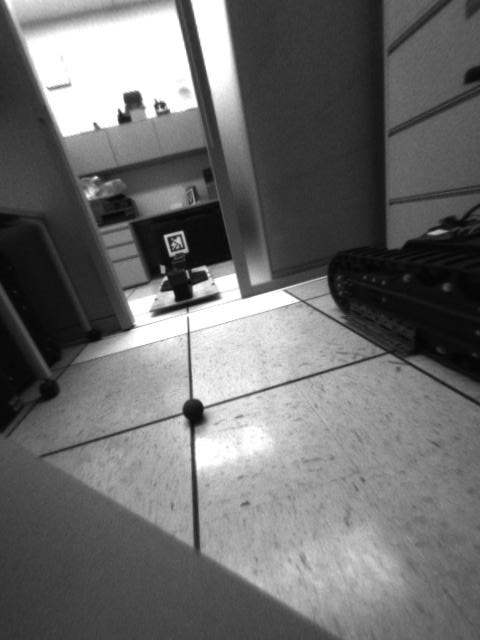dogtoy: (175, 390, 209, 430)
